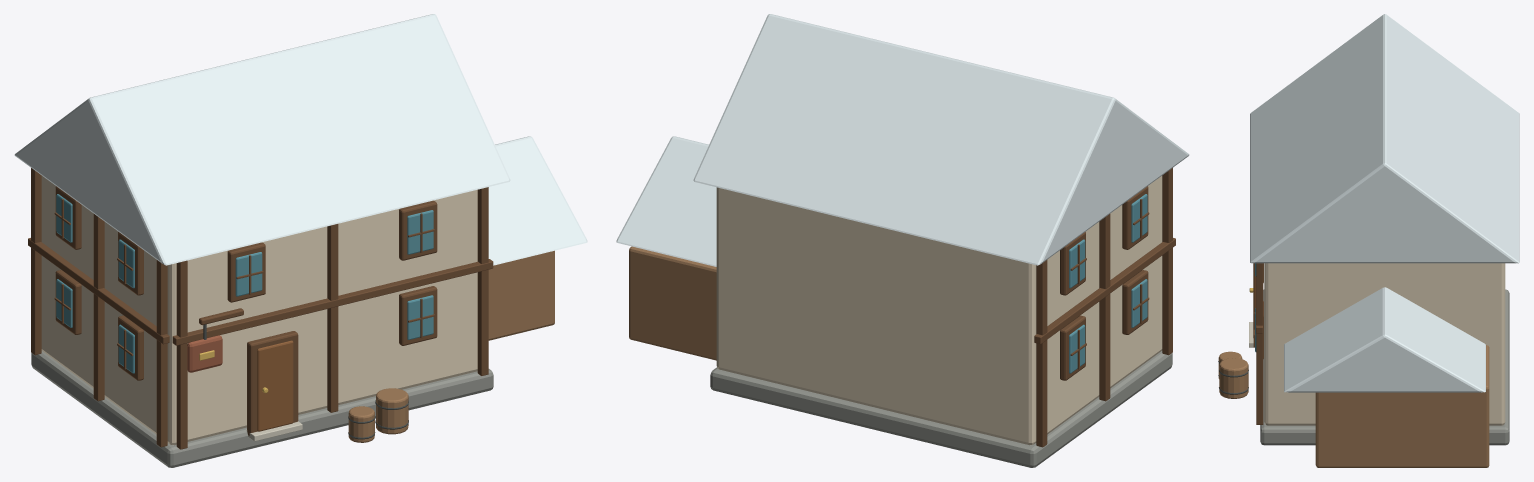
The model's file is snowy-inn-0.glb.
3 views of the same model, side by side, from view 1: azimuth 30°, elevation 25°; view 2: azimuth 150°, elevation 25°; view 3: azimuth 270°, elevation 25° (orthographic). The views are drawn at different scales.
Visible parts, largest first — view 1: Snow, Warm lime, Dark beams, Foundation stone, Aged oak, Blue glass, Door oak, Painted sign; view 2: Snow, Warm lime, Dark beams, Foundation stone, Aged oak, Blue glass; view 3: Snow, Warm lime, Aged oak, Foundation stone, Dark beams.
Boxes of the visible parts, left/top/right/bottom form: Snow: left=14, top=14, right=587, bottom=265; Warm lime: left=41, top=176, right=477, bottom=445; Dark beams: left=28, top=168, right=493, bottom=449; Foundation stone: left=31, top=351, right=493, bottom=467; Aged oak: left=348, top=250, right=554, bottom=442; Blue glass: left=56, top=194, right=433, bottom=373; Door oak: left=257, top=340, right=293, bottom=431; Painted sign: left=187, top=335, right=222, bottom=372; Snow: left=616, top=14, right=1189, bottom=266; Warm lime: left=716, top=176, right=1162, bottom=445; Dark beams: left=1034, top=168, right=1175, bottom=447; Foundation stone: left=710, top=351, right=1172, bottom=467; Aged oak: left=629, top=246, right=716, bottom=360; Blue glass: left=1069, top=194, right=1147, bottom=373; Snow: left=1250, top=14, right=1519, bottom=392; Warm lime: left=1264, top=263, right=1505, bottom=425; Aged oak: left=1218, top=345, right=1489, bottom=467; Foundation stone: left=1260, top=289, right=1509, bottom=445; Dark beams: left=1253, top=263, right=1263, bottom=424.
Bounding box in the file's own units: 6.44 × 4.48 × 4.25.
